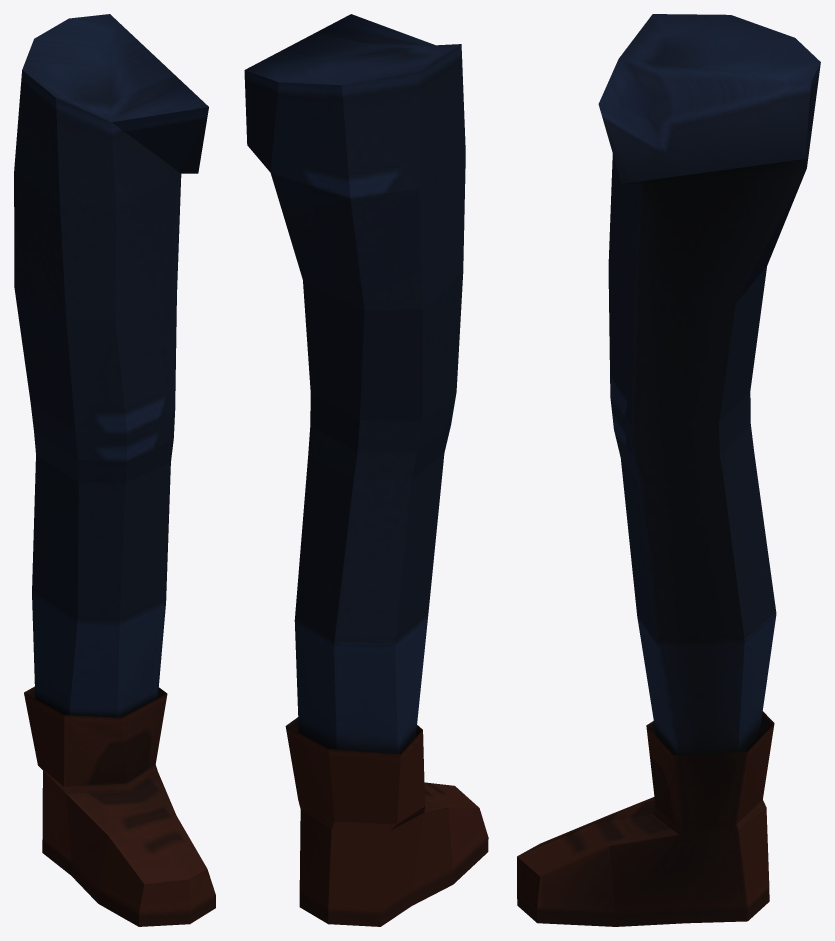
The model's file is rLeg.obj.
3 renders of one model, left to right at view 1: azimuth 30°, elevation 25°; view 2: azimuth 150°, elevation 25°; view 3: azimuth 270°, elevation 25°, orthographic. The views are drawn at different scales.
Parts seen in each view (by area): view 1: Body_body_mesh.006; view 2: Body_body_mesh.006; view 3: Body_body_mesh.006.
Part boxes in pixels (left/top/right/bottom): Body_body_mesh.006: left=14, top=14, right=215, bottom=926; Body_body_mesh.006: left=244, top=14, right=488, bottom=926; Body_body_mesh.006: left=517, top=14, right=820, bottom=926.
Bounding box in the file's own units: 0.2466 × 1.44 × 0.4635.
